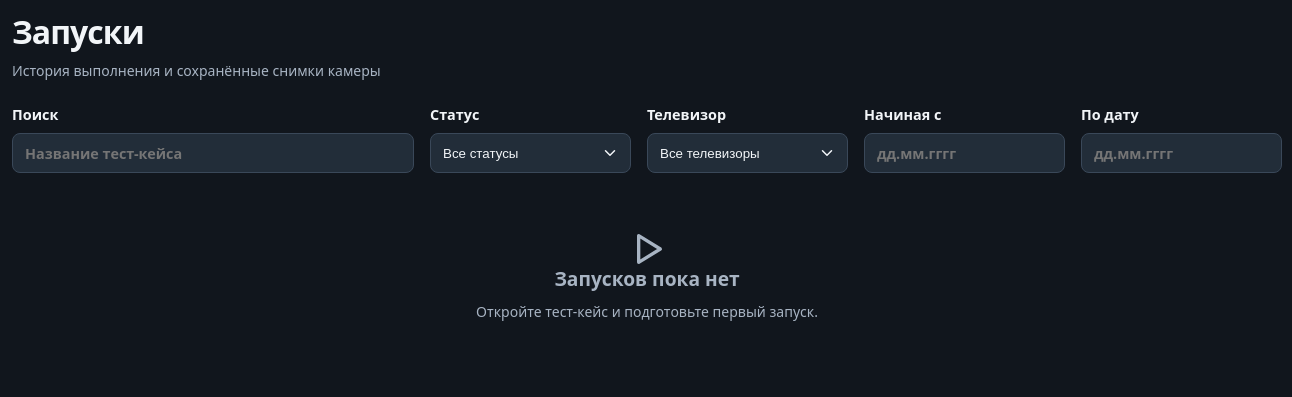
Test: filtered empty results offer reset and restore unfiltered history
Expected: the heading "Запусков пока нет" is shown, left=554, top=269, right=740, bottom=289
Type "missing" into the search field.
click(213, 153); type("missing")  # box left=12, top=133, right=414, bottom=173
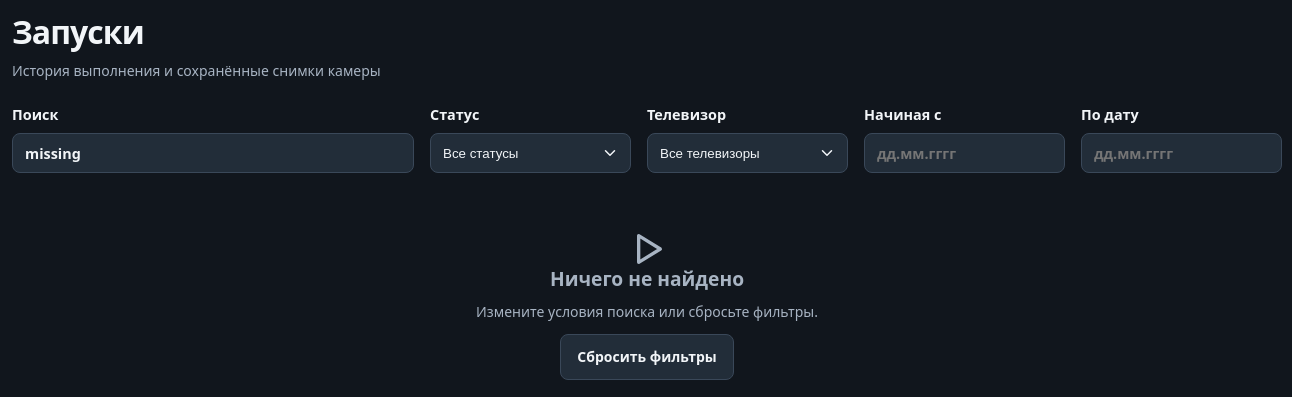
Expected: the heading "Ничего не найдено" is shown, left=550, top=269, right=744, bottom=289
Click the button "Сбросить фильтры".
click(647, 357)  # box left=560, top=334, right=734, bottom=380
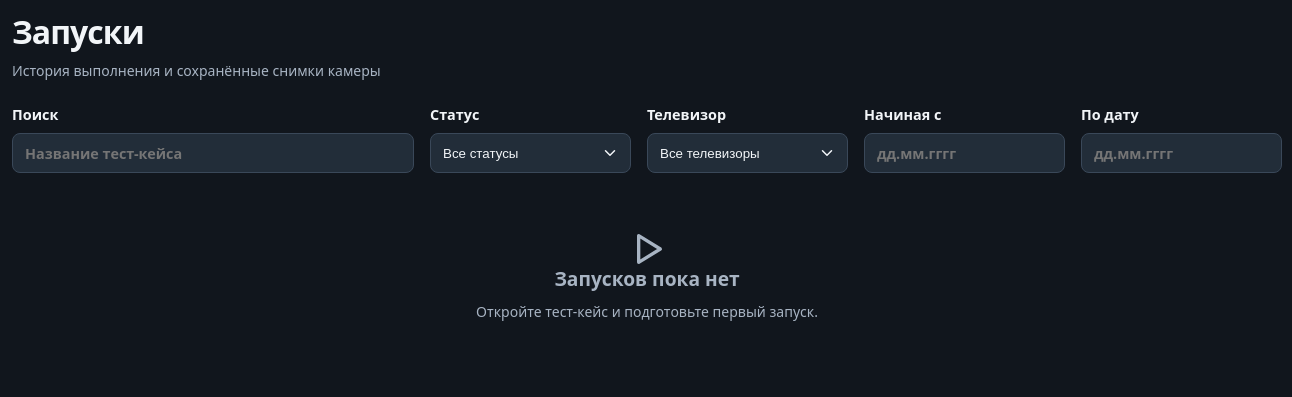
Expected: the heading "Запусков пока нет" is shown, left=554, top=269, right=740, bottom=289
